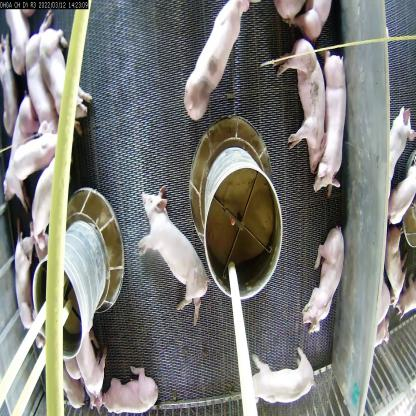Pig: (180, 1, 250, 126), (136, 186, 204, 302), (276, 32, 326, 176), (36, 15, 90, 123), (318, 49, 354, 199), (1, 117, 58, 199), (23, 38, 63, 142), (252, 344, 316, 408), (88, 361, 160, 416), (31, 155, 66, 253), (12, 242, 46, 342), (307, 226, 338, 327)
